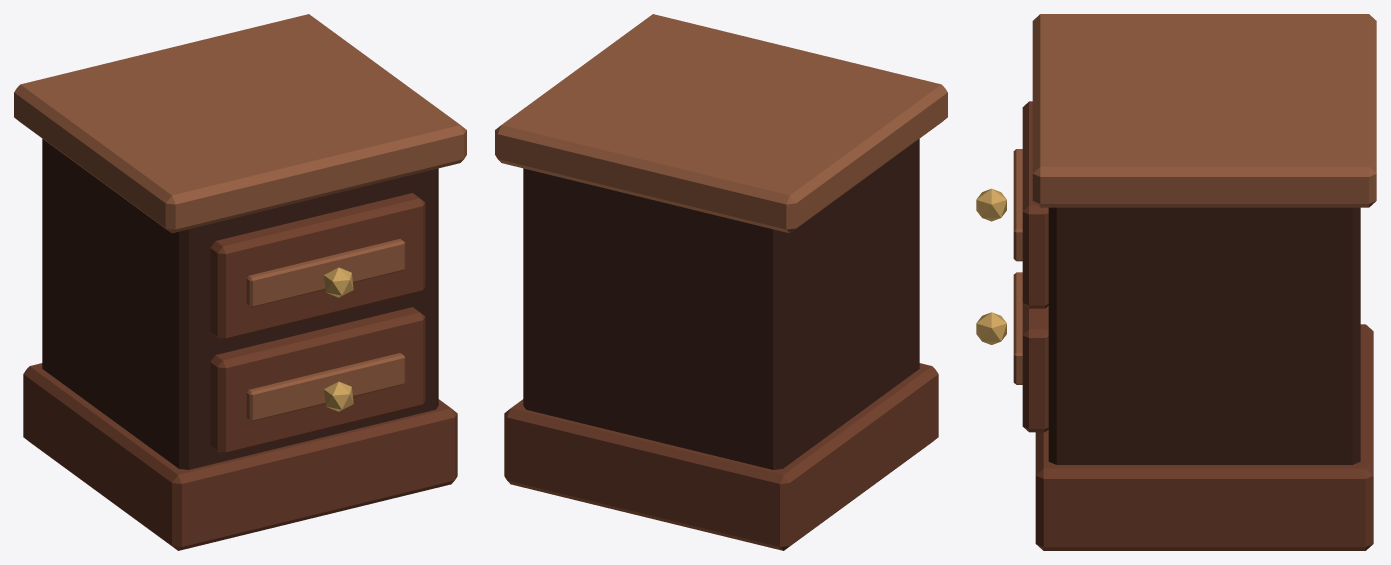
File: bedside_cabinet.glb
The picture shows the model from 3 angles, left to right: view 1: azimuth 30°, elevation 25°; view 2: azimuth 150°, elevation 25°; view 3: azimuth 270°, elevation 25°; orthographic projection. The views are drawn at different scales.
Parts seen in each view (by area): view 1: Top, Body, Plinth, Front_00, Front_01, Inset_00, Inset_01, Handle_001, Handle; view 2: Body, Top, Plinth; view 3: Body, Top, Plinth, Front_01, Front_00, Inset_01, Inset_00, Handle, Handle_001.
Boxes of the visible parts, x1,y1,x2,y2 form: Top: (14,14,466,233); Body: (42,139,438,469); Plinth: (23,363,457,550); Front_00: (210,307,425,455); Front_01: (210,193,425,341); Inset_00: (246,353,405,421); Inset_01: (246,239,405,307); Handle_001: (324,267,353,297); Handle: (324,381,353,411); Body: (523,139,919,469); Top: (495,14,947,233); Plinth: (504,363,938,550); Body: (1048,207,1360,464); Top: (1032,14,1376,207); Plinth: (1035,324,1373,550); Front_01: (1022,101,1048,308); Front_00: (1022,303,1048,432); Inset_01: (1013,149,1022,261); Inset_00: (1013,272,1022,384); Handle: (976,312,1006,344); Handle_001: (976,188,1006,221).
Bounding box in the file's own units: 0.58 × 0.66 × 0.6168.
